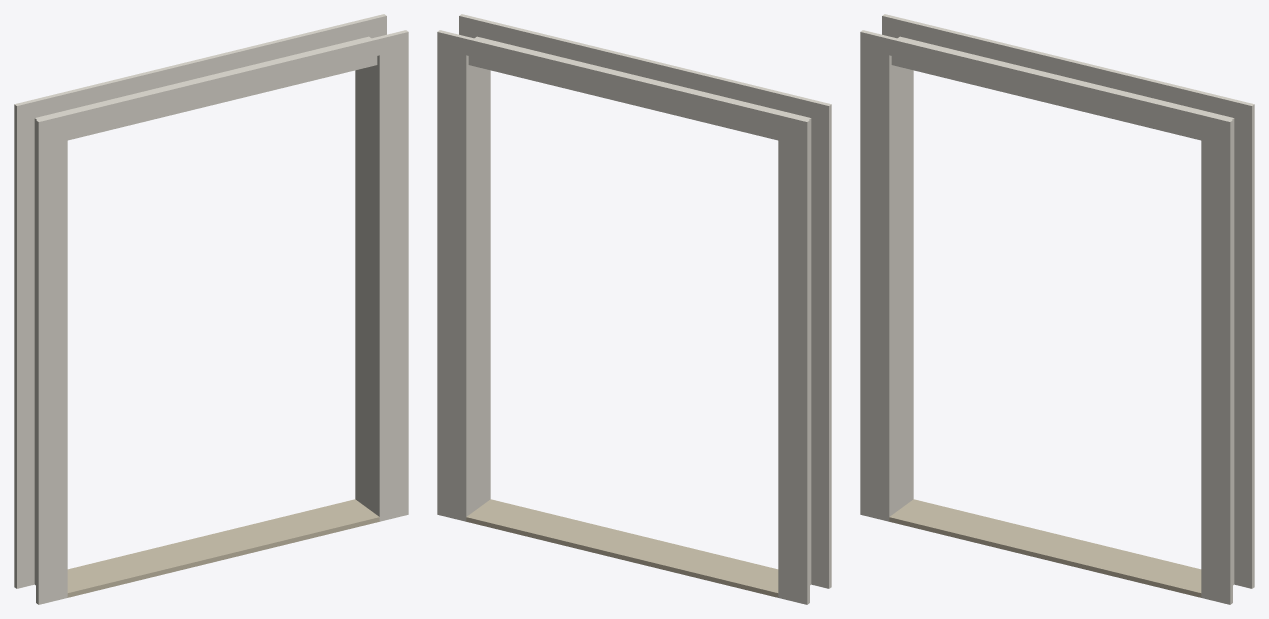
Rendered from door_frame.glb.
3 renders of one model, left to right at view 1: azimuth 30°, elevation 25°; view 2: azimuth 150°, elevation 25°; view 3: azimuth 330°, elevation 25°, orthographic.
Visible parts, largest first — view 1: door_frame; view 2: door_frame; view 3: door_frame.
Boxes of the visible parts, left/top/right/bottom form: door_frame: left=14, top=14, right=408, bottom=604; door_frame: left=437, top=14, right=831, bottom=604; door_frame: left=860, top=14, right=1254, bottom=604.
Size of the model in its own units: 1.66 by 2.07 by 0.19.
Materials: 1 (1 with a texture image).
